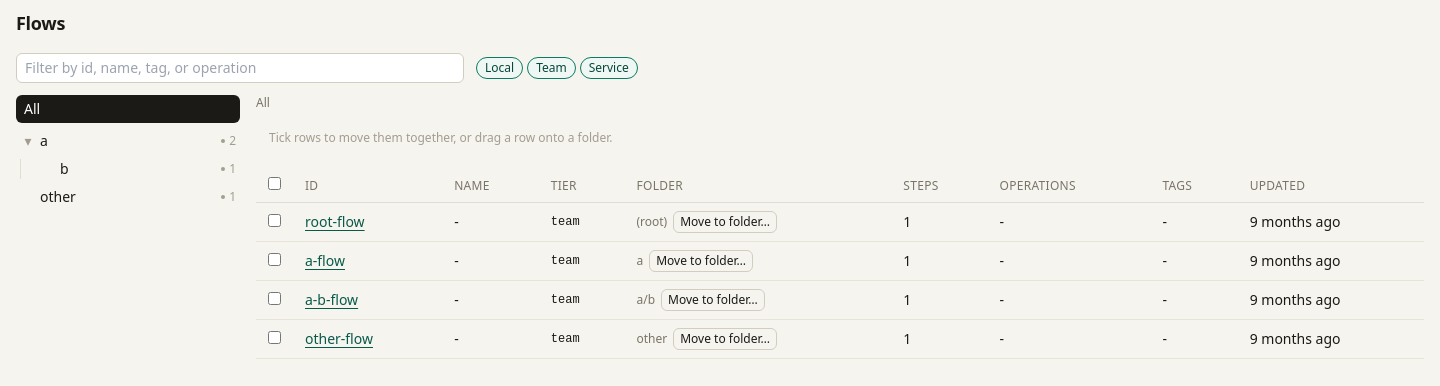
Test: "Move to folder…" (via FlowsPage) › a failed move surfaces the error inline in the popover
This screenshot has width=1440, height=386.
Expected: the link "root-flow" is shown, 305,212 -> 365,231
Click the button "Move to folder…" next to "(root)". click: click(725, 222)
box: 673,211 -> 777,233
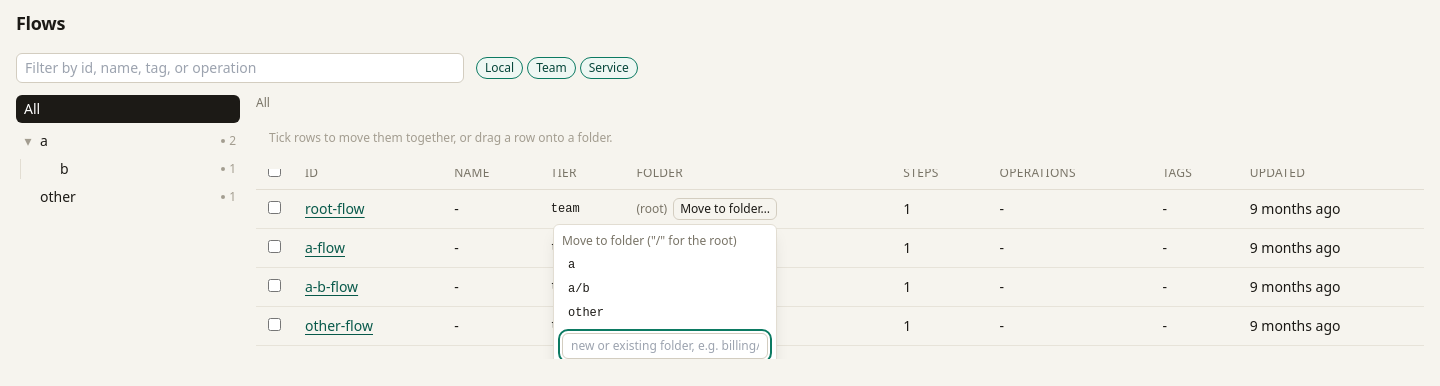
Type "a" into the field labelled "Move to folder (\"/\" for the root)". click: (665, 346)
box: 562,333 -> 768,359
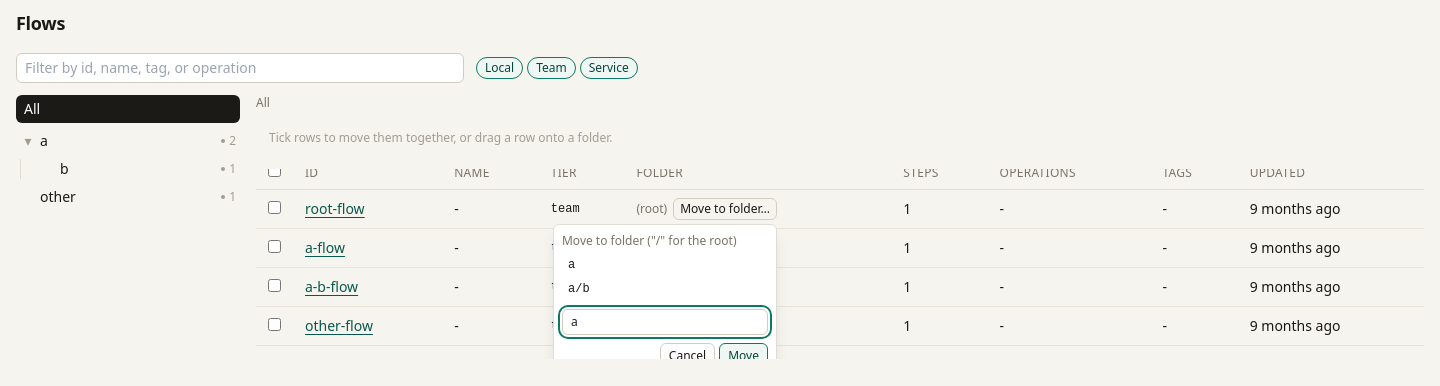
Click the button "Move". click: click(744, 356)
box: 719,343 -> 768,369
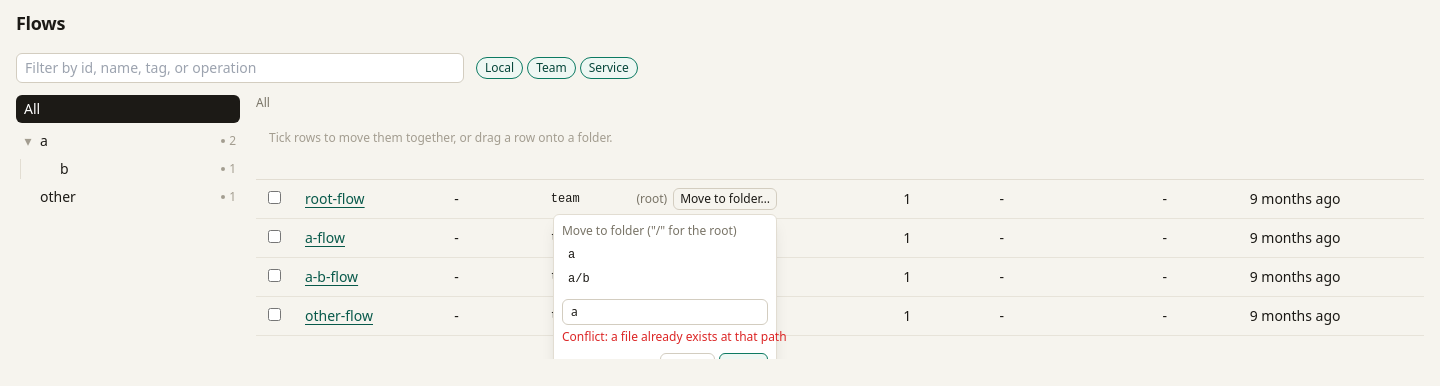
Now the text "Conflict: a file already exists at that path" is shown, box 562,329 -> 768,345
